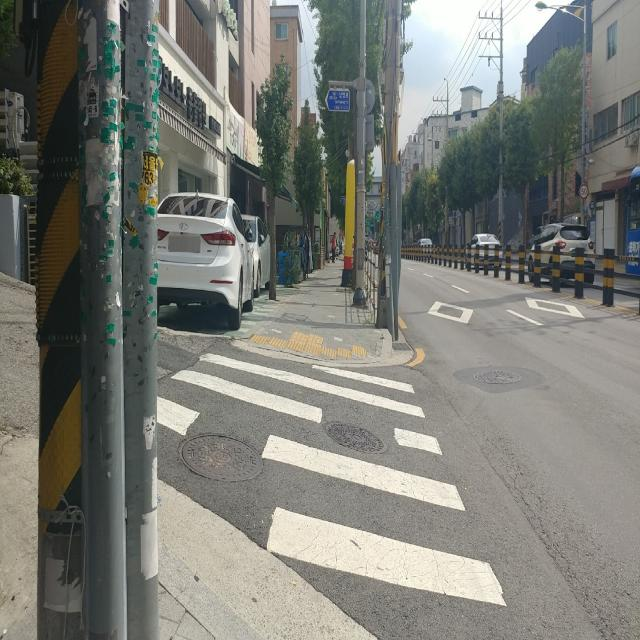횡단보도: (157, 352, 509, 608)
